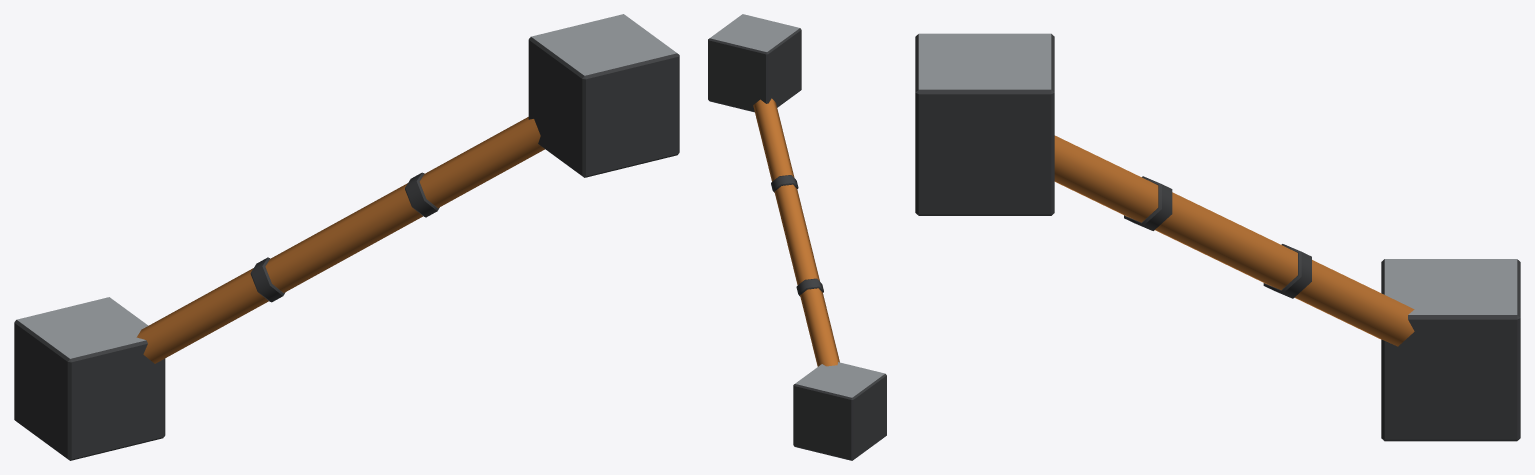
The model's file is R4C_ROD_DIAG_3D_LOD1.fbx.
3 renders of one model, left to right at view 1: azimuth 30°, elevation 25°; view 2: azimuth 150°, elevation 25°; view 3: azimuth 270°, elevation 25°, orthographic. The views are drawn at different scales.
Parts seen in each view (by area): view 1: R4C_ROD_DIAG_3D_LOD1; view 2: R4C_ROD_DIAG_3D_LOD1; view 3: R4C_ROD_DIAG_3D_LOD1.
Boxes of the visible parts, <box> form: R4C_ROD_DIAG_3D_LOD1: <box>14,14,679,460</box>; R4C_ROD_DIAG_3D_LOD1: <box>708,14,886,460</box>; R4C_ROD_DIAG_3D_LOD1: <box>915,33,1520,441</box>.
Bounding box in the file's own units: 1.62 × 1.62 × 1.62.
